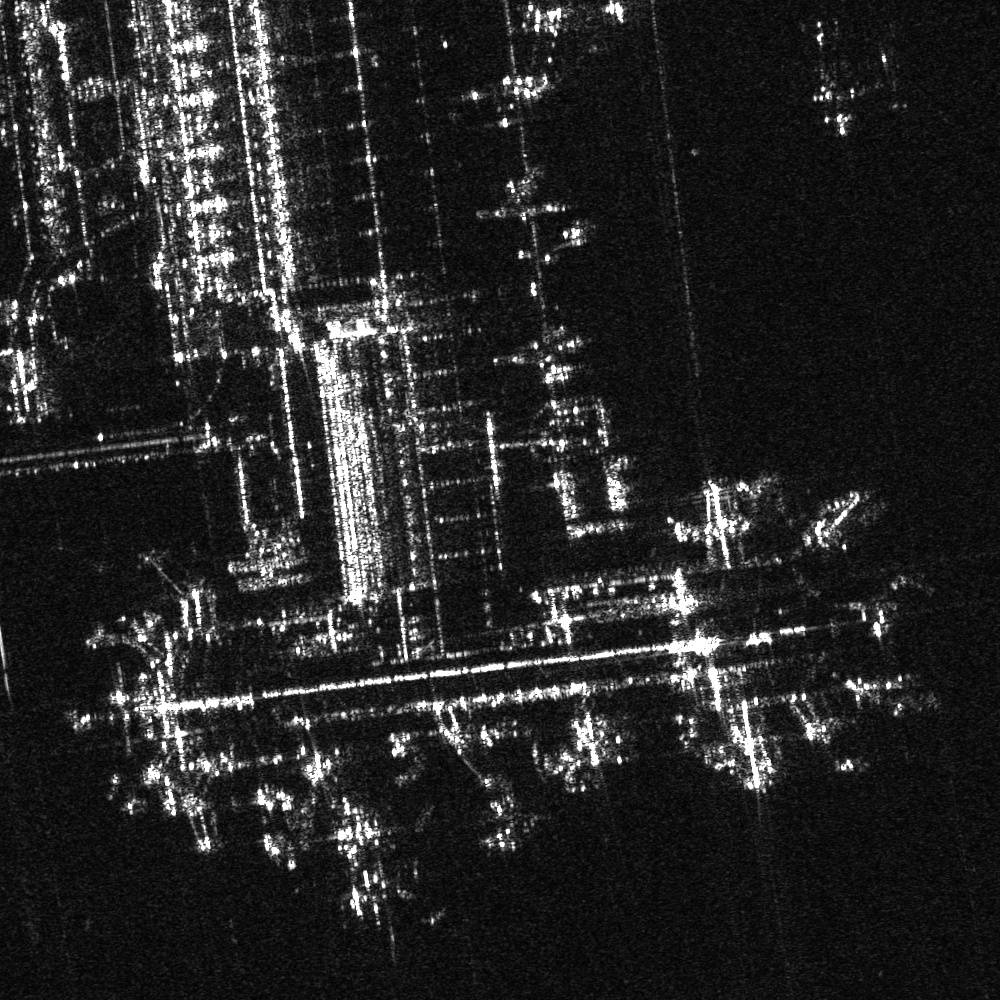Boeing787: (485, 160, 585, 248)
